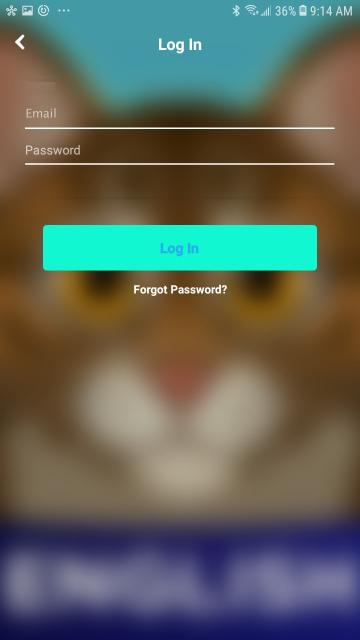BackgroundImage: (0, 17, 360, 639)
EditText: (25, 144, 335, 166), (26, 107, 334, 129)
Icon: (15, 34, 25, 50)
Text: (134, 284, 226, 296), (158, 38, 202, 54), (26, 145, 80, 155), (161, 242, 199, 255), (26, 108, 56, 118)
TextButton: (43, 225, 317, 271)
UpperTaskBar: (0, 0, 359, 16)
